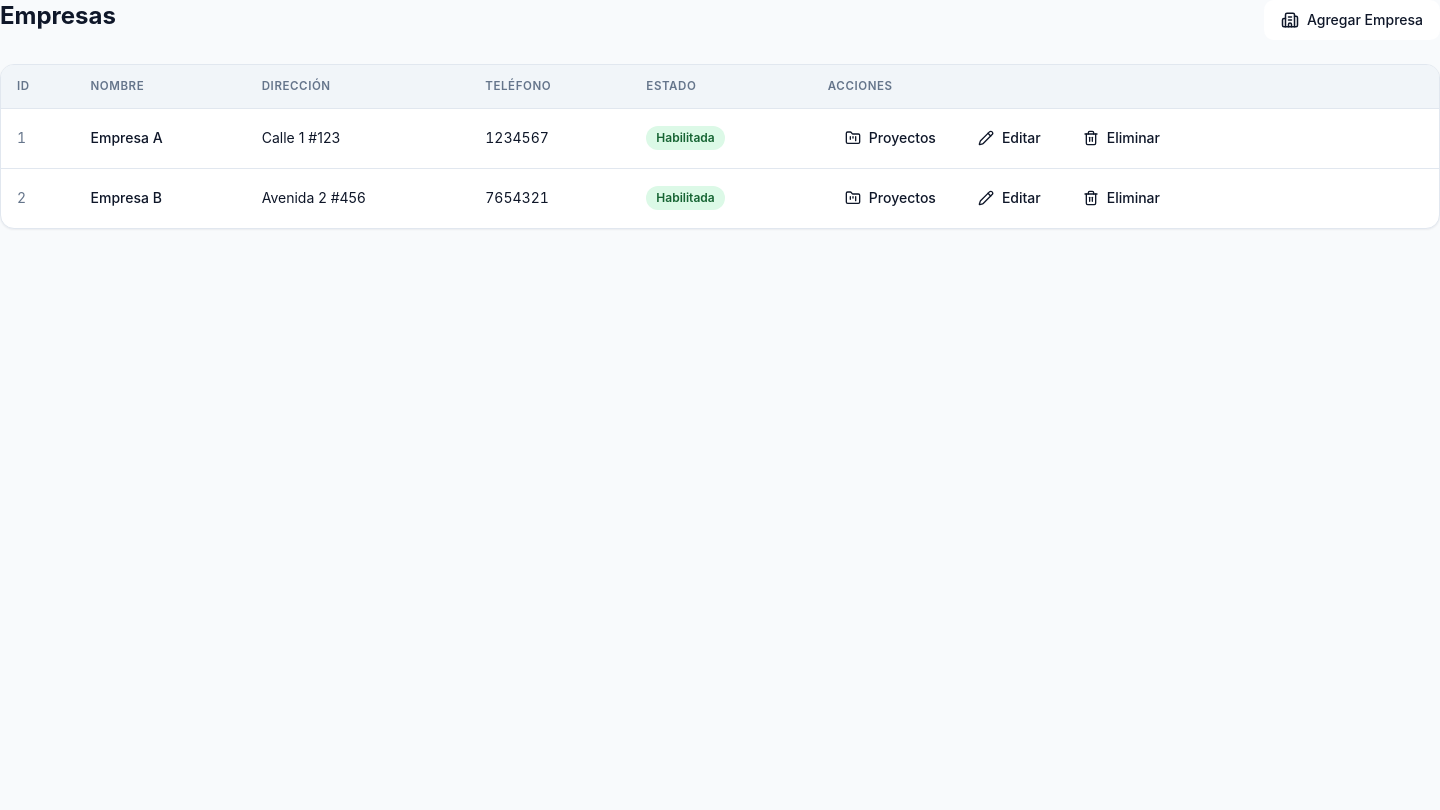
Test case: EmpresasPage Integration Tests › Full edit flow › should edit an existing empresa: click "Editar" → verify fields pre-loaded → modify fields → click "Guardar" → row updated
Expected: the text "Empresa A" is shown, x1=74 y1=108 x2=246 y2=168
// Click "Editar" on the first row
Click the button "Editar" in the row of "Empresa A": (1009, 138) x1=961 y1=122 x2=1058 y2=154
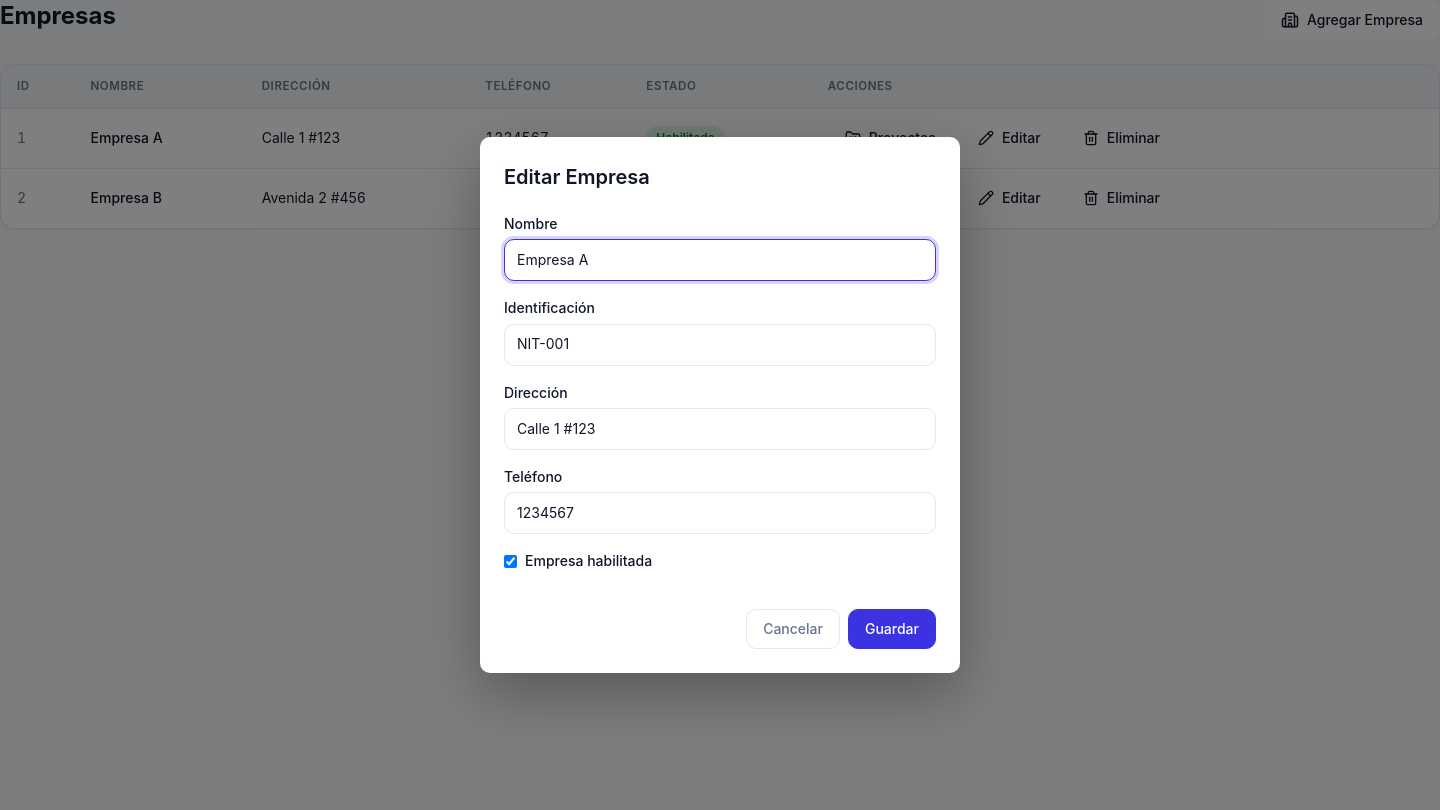
Result: the dialog is shown at x1=480 y1=137 x2=960 y2=673
Result: the heading "Editar Empresa" is shown at x1=504 y1=165 x2=650 y2=189
Result: the field labelled "Nombre" holds "Empresa A"
// Clear and modify fields
Replace the text in the field labelled "Nombre" with "Empresa A Modificada": (720, 260) x1=504 y1=239 x2=936 y2=281
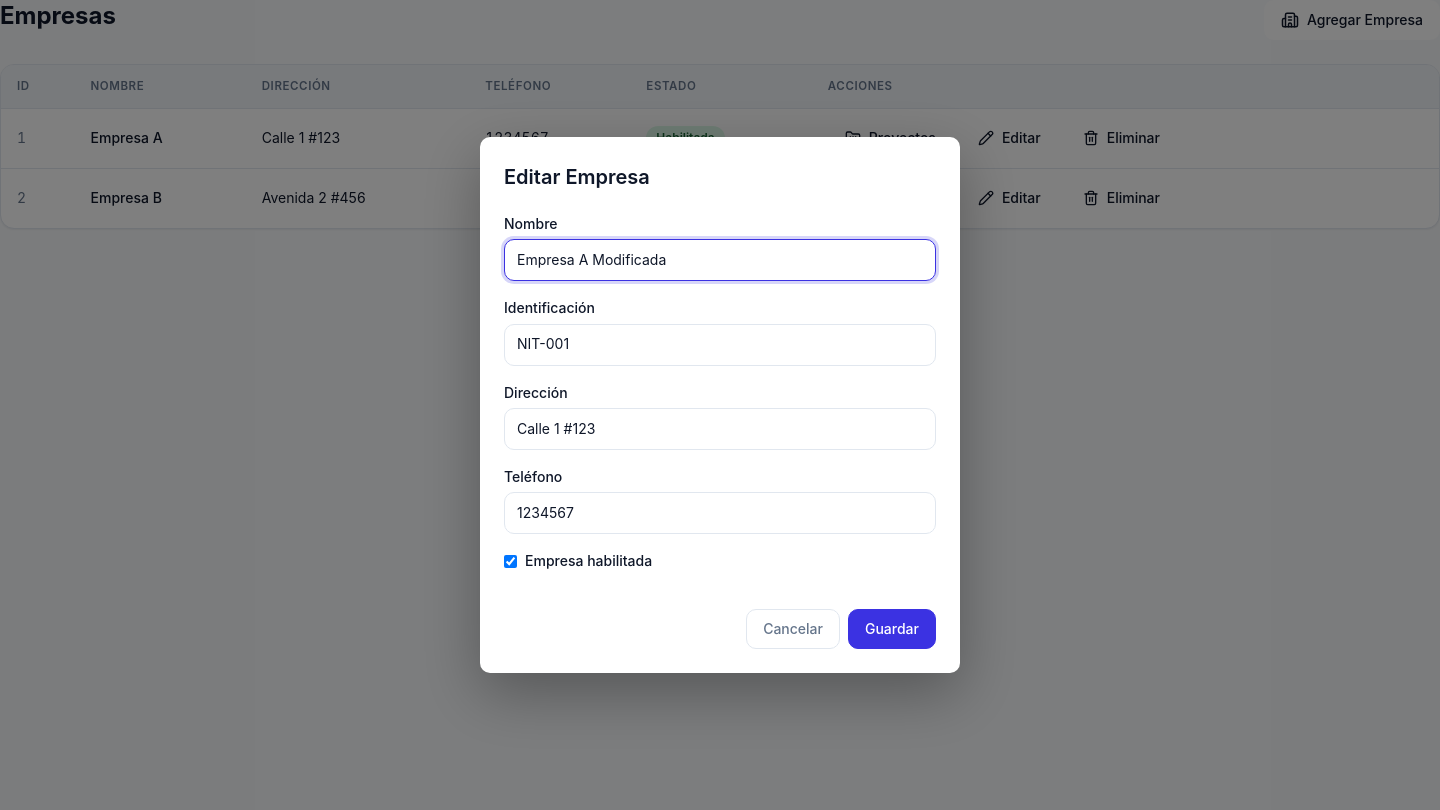
Replace the text in the field labelled "Dirección" with "Calle Modificada #999": (720, 429) x1=504 y1=408 x2=936 y2=450
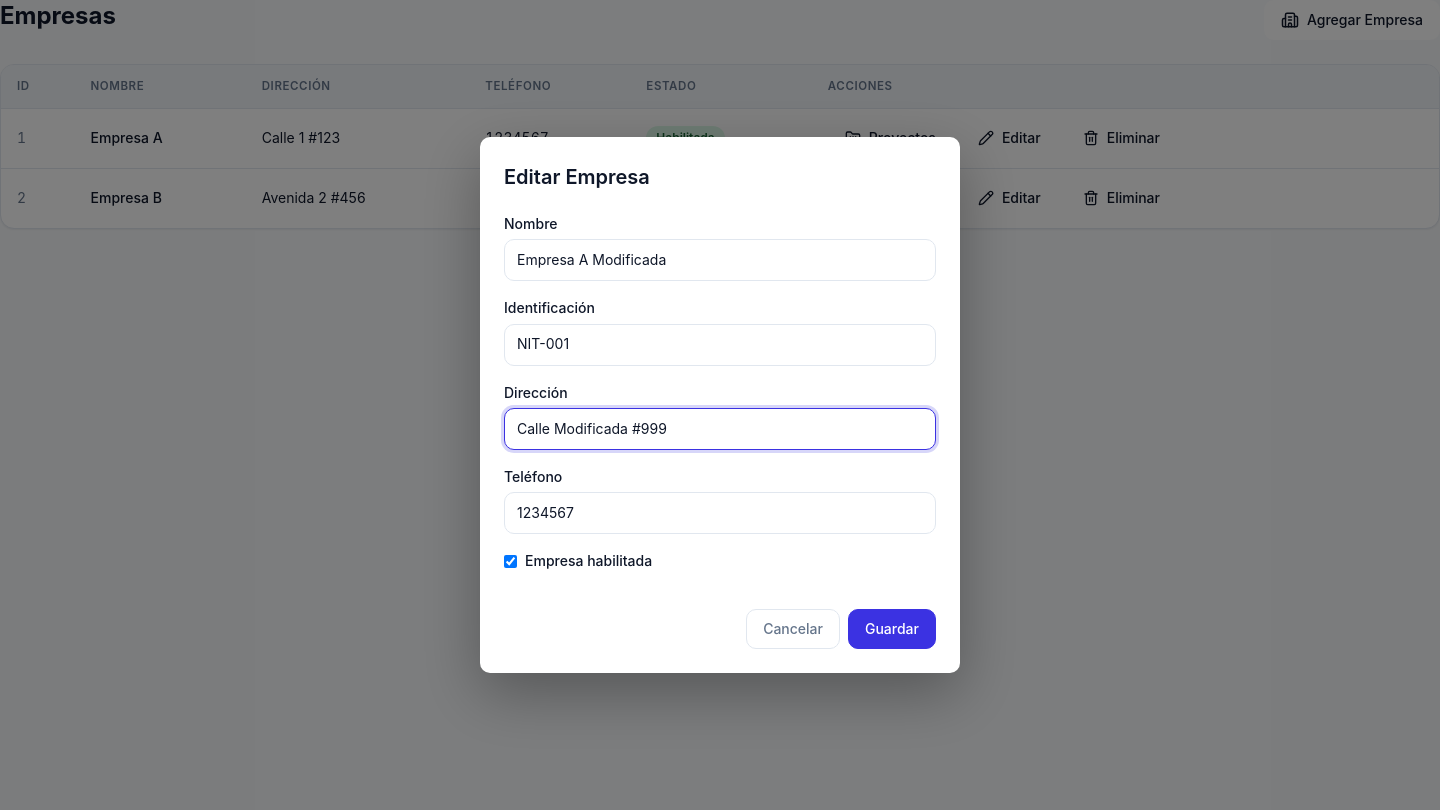
Replace the text in the field labelled "Teléfono" with "1111111": (720, 513) x1=504 y1=492 x2=936 y2=534
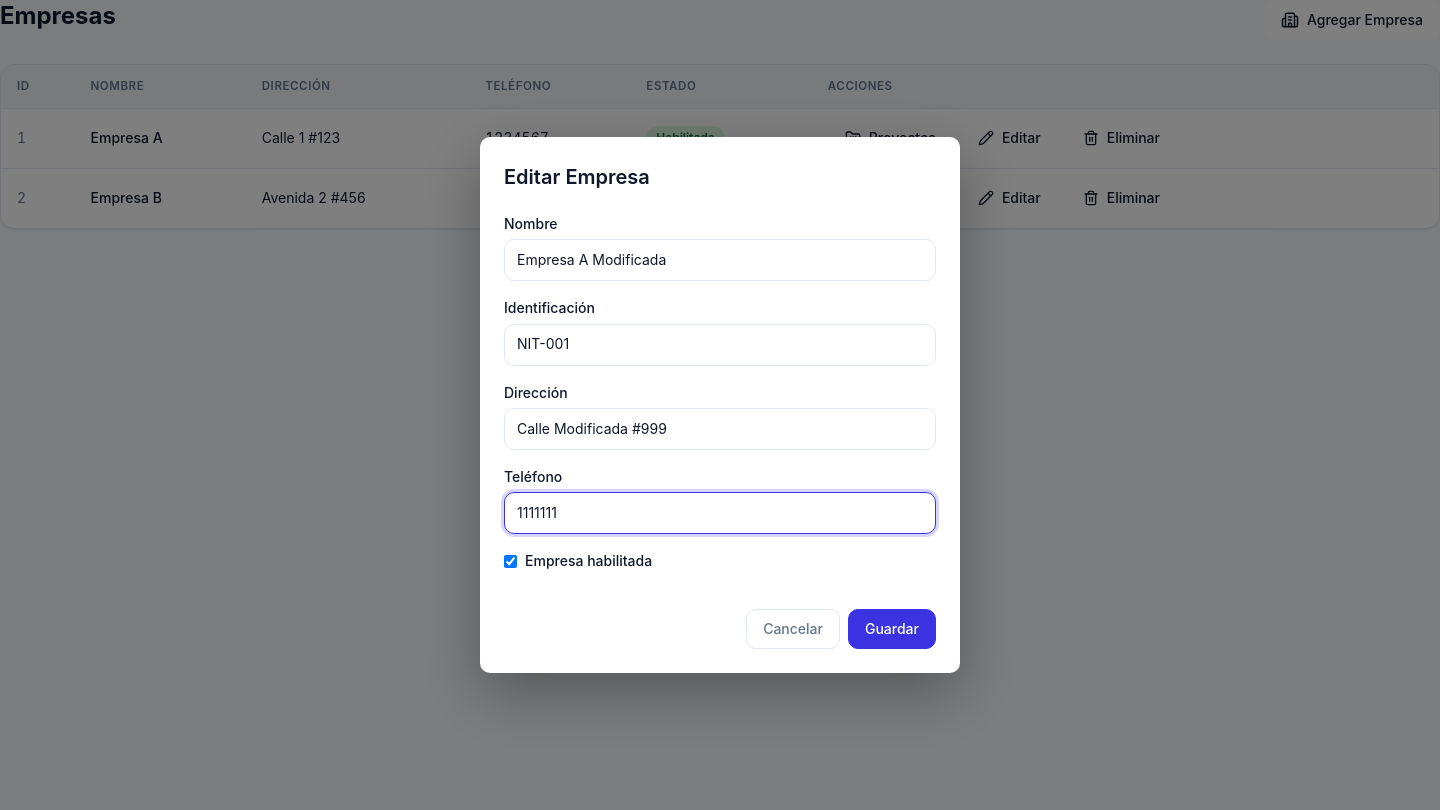
// Click "Guardar"
Click the button "Guardar": (892, 629) x1=848 y1=609 x2=936 y2=649
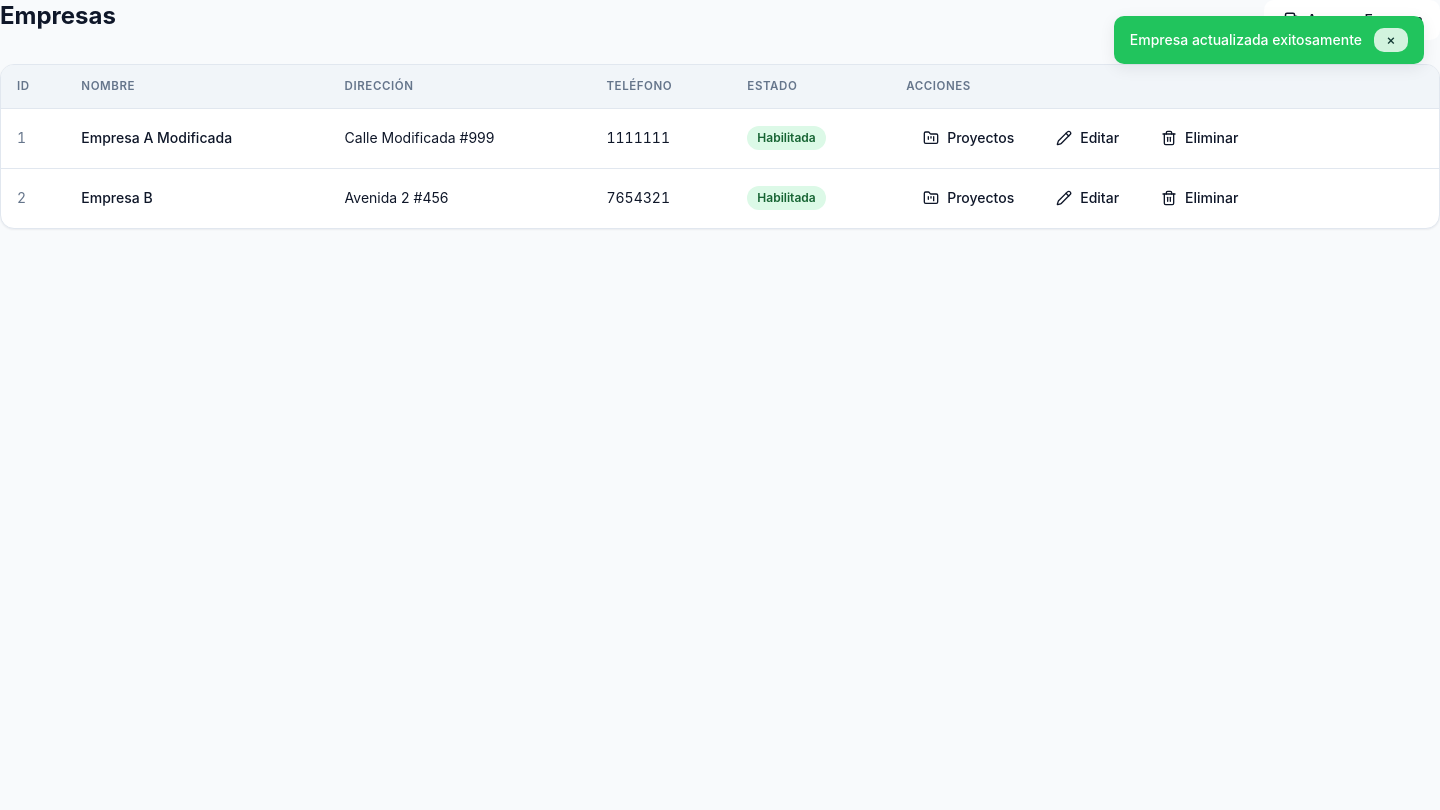
Result: the dialog is gone
Result: the text "Empresa A Modificada" is shown at x1=65 y1=108 x2=329 y2=168
Result: the text "Calle Modificada #999" is shown at x1=329 y1=108 x2=590 y2=168
